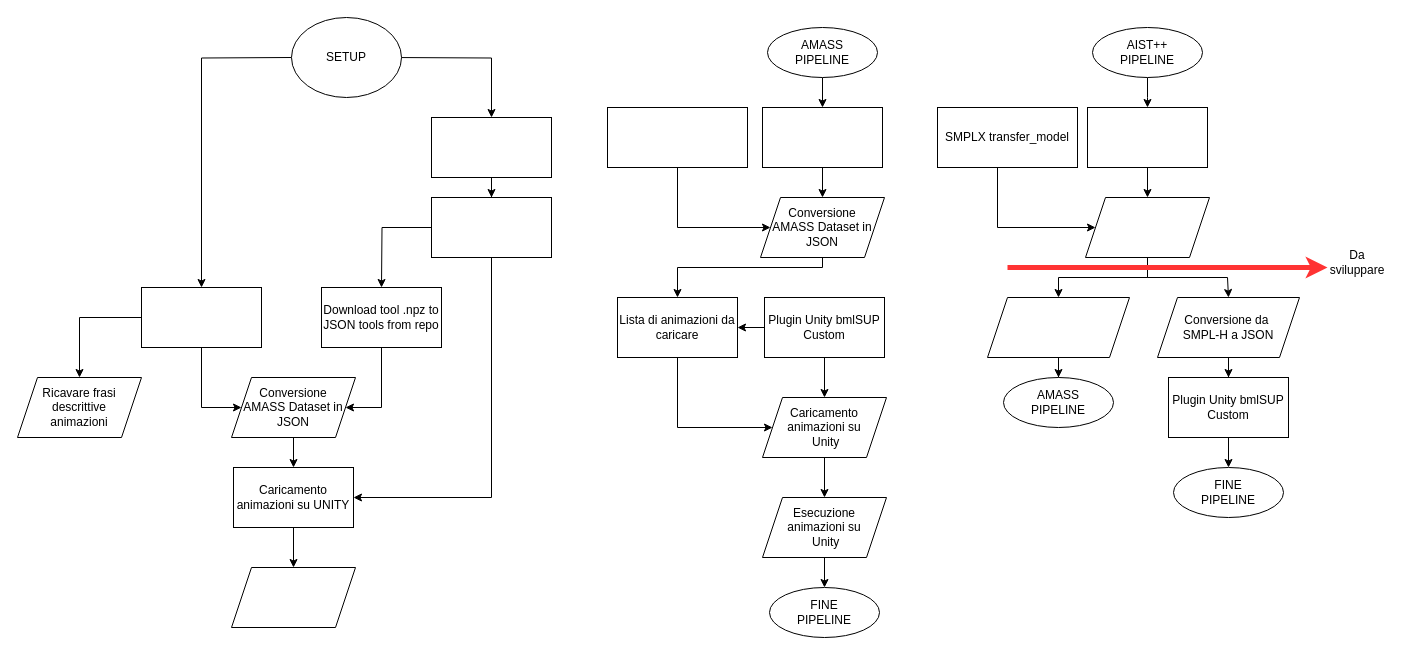
The diagram is 1405 pixels wide and 655 high, and some of its shapes have lost their labels. The shapes that lost their labels are listed below. From the top down, each one's box as (x1, y1, x2, y2) in pixels, then its label:
(430, 116, 552, 178): Installazione Unity >2020
(606, 106, 748, 168): JSONConversionScript
(762, 106, 882, 168): AMASS SMPL-H in formato .npz
(1086, 106, 1208, 168): AIST++ SMPL in formato .pkl
(430, 196, 552, 258): Installazione plugin Unity bmlSUP
(1084, 196, 1210, 258): Conversione da SMPL a SMPL-H
(140, 286, 262, 348): Download AMASS Dataset
(986, 296, 1130, 358): Conversione da SMPL-H ad AMASS SMPL-H
(230, 566, 356, 628): Verifica funzionamento
